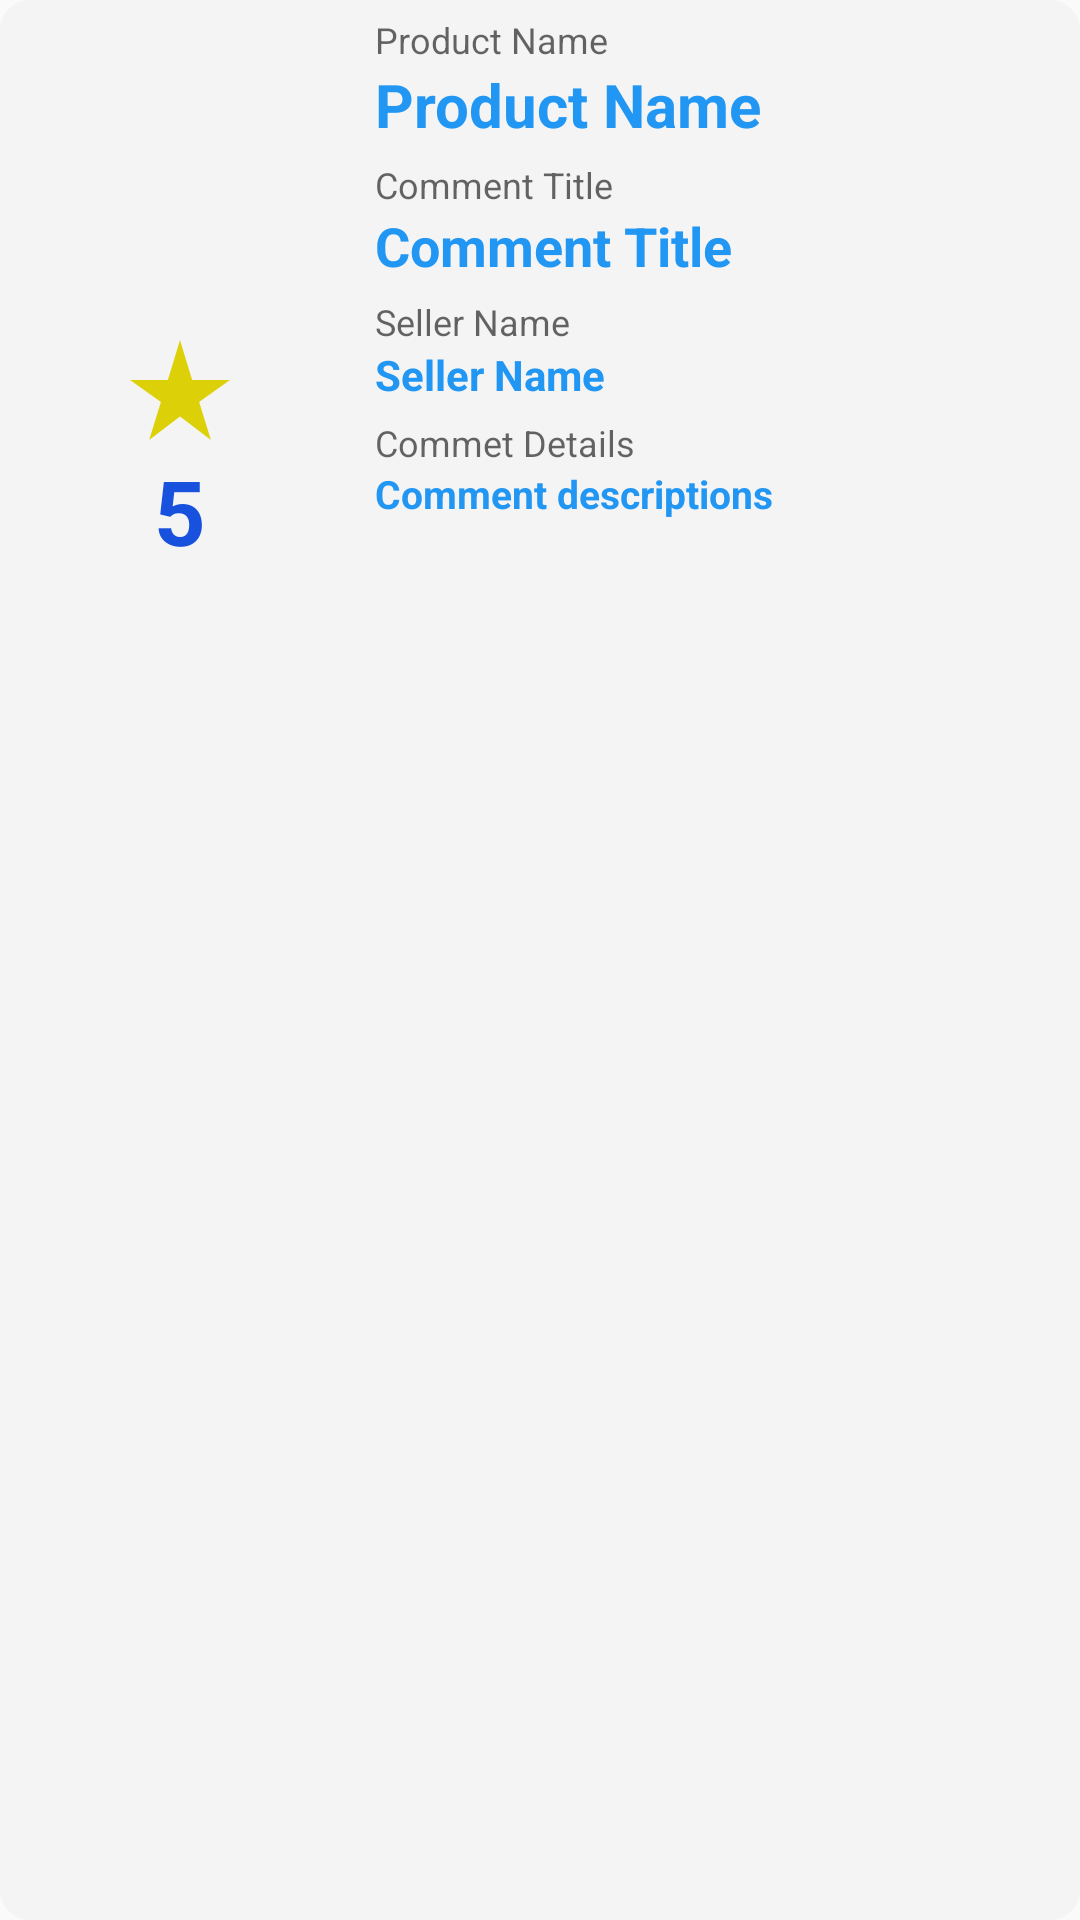

Where icons sit on this 1080 x 1920 app screen, as (left=x1, top=y1, right=x2, bottom=y2):
rates: (left=130, top=340, right=230, bottom=440)
